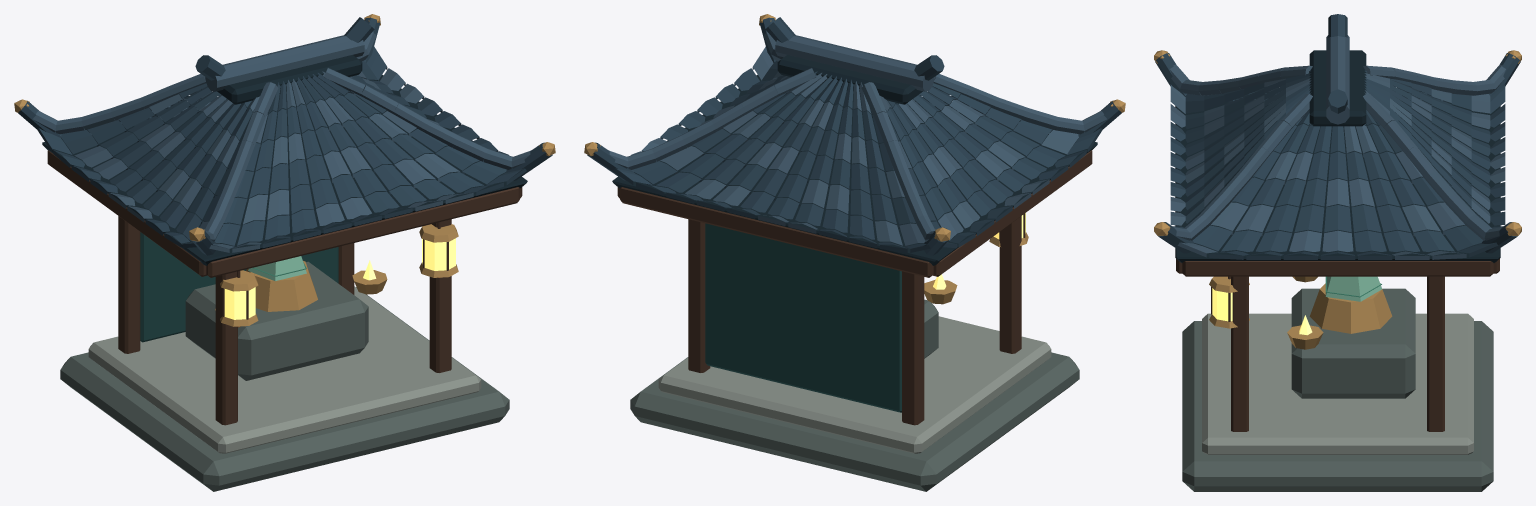
File: shrine.glb
3 renders of one model, left to right at view 1: azimuth 30°, elevation 25°; view 2: azimuth 150°, elevation 25°; view 3: azimuth 270°, elevation 25°, orthographic.
Parts seen in each view (by area): view 1: shrine_Roof_slate, shrine_Ash_stone, shrine_Stone_light, shrine_Roof_weathered, shrine_Timber, shrine_Roof_shadow, shrine_Jade_deep, shrine_Old_gold, shrine_Lantern_paper, shrine_Jade_pale; view 2: shrine_Roof_slate, shrine_Jade_deep, shrine_Roof_weathered, shrine_Stone_light, shrine_Ash_stone, shrine_Timber, shrine_Roof_shadow, shrine_Old_gold; view 3: shrine_Roof_slate, shrine_Ash_stone, shrine_Roof_weathered, shrine_Stone_light, shrine_Roof_shadow, shrine_Timber, shrine_Old_gold, shrine_Jade_pale, shrine_Lantern_paper.
Part boxes in pixels (left/top/right/bottom): shrine_Roof_slate: left=18, top=17, right=552, bottom=255; shrine_Ash_stone: left=60, top=261, right=509, bottom=491; shrine_Stone_light: left=88, top=286, right=481, bottom=453; shrine_Roof_weathered: left=33, top=32, right=530, bottom=252; shrine_Timber: left=47, top=150, right=522, bottom=425; shrine_Roof_shadow: left=42, top=55, right=527, bottom=265; shrine_Jade_deep: left=140, top=232, right=338, bottom=342; shrine_Old_gold: left=14, top=14, right=555, bottom=327; shrine_Lantern_paper: left=224, top=238, right=455, bottom=319; shrine_Jade_pale: left=248, top=256, right=306, bottom=281; shrine_Roof_slate: left=587, top=17, right=1121, bottom=255; shrine_Jade_deep: left=705, top=223, right=901, bottom=412; shrine_Roof_weathered: left=609, top=32, right=1106, bottom=248; shrine_Stone_light: left=658, top=316, right=1051, bottom=453; shrine_Ash_stone: left=630, top=299, right=1079, bottom=491; shrine_Timber: left=617, top=150, right=1092, bottom=425; shrine_Roof_shadow: left=612, top=55, right=1097, bottom=265; shrine_Old_gold: left=584, top=14, right=1125, bottom=304; shrine_Roof_slate: left=1155, top=14, right=1520, bottom=259; shrine_Ash_stone: left=1182, top=288, right=1493, bottom=491; shrine_Roof_weathered: left=1170, top=35, right=1505, bottom=259; shrine_Stone_light: left=1202, top=313, right=1473, bottom=454; shrine_Roof_shadow: left=1175, top=50, right=1500, bottom=262; shrine_Timber: left=1176, top=259, right=1499, bottom=431; shrine_Old_gold: left=1154, top=50, right=1521, bottom=349; shrine_Jade_pale: left=1325, top=276, right=1381, bottom=301; shrine_Lantern_paper: left=1212, top=288, right=1312, bottom=335.
Size of the model in its own units: 3.24 by 3.13 by 2.81.
